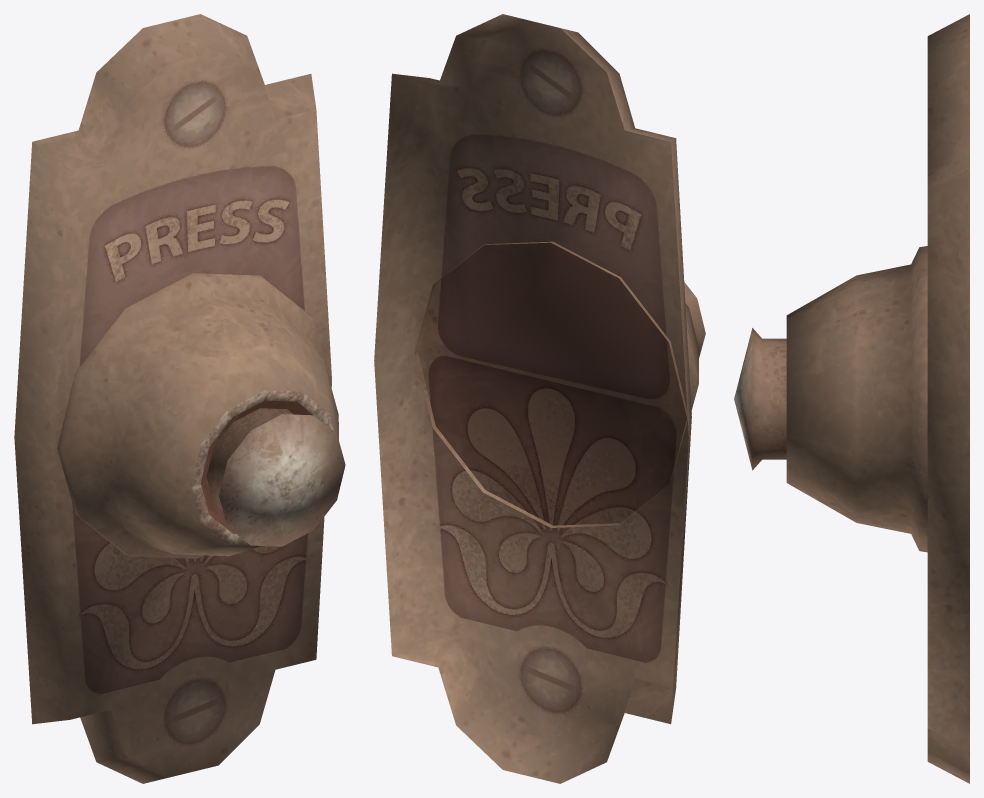
3 renders of one model, left to right at view 1: azimuth 30°, elevation 25°; view 2: azimuth 150°, elevation 25°; view 3: azimuth 270°, elevation 25°, orthographic.
Visible parts, largest first — view 1: door_bell_door_bell_0; view 2: door_bell_door_bell_0; view 3: door_bell_door_bell_0.
Boxes of the visible parts, x1=… form: door_bell_door_bell_0: x1=14, y1=14, x2=345, y2=783; door_bell_door_bell_0: x1=374, y1=14, x2=705, y2=783; door_bell_door_bell_0: x1=734, y1=14, x2=969, y2=783.
Size of the model in its own units: 0.4708 by 1.08 by 0.3112.
Materials: 1 (1 with a texture image).
